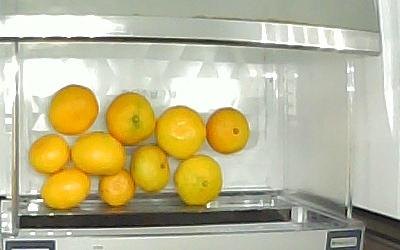tangerine: (174, 155, 225, 208), (108, 92, 156, 146), (48, 85, 99, 135), (158, 106, 206, 158), (71, 132, 127, 176), (41, 168, 92, 209), (132, 143, 171, 196), (207, 106, 250, 154), (26, 135, 71, 173), (100, 167, 134, 208)
